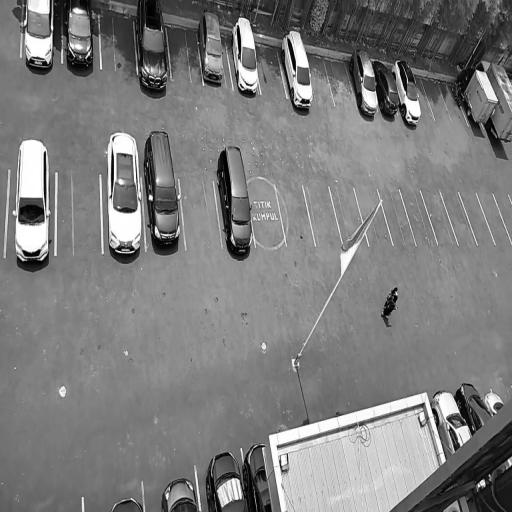Car: (103, 124, 146, 271), (10, 133, 54, 270), (142, 121, 184, 262), (135, 0, 173, 103), (277, 25, 318, 110), (429, 383, 474, 460), (452, 61, 500, 126), (21, 0, 59, 78), (226, 15, 262, 97), (389, 56, 426, 131), (202, 446, 244, 512), (65, 0, 98, 79), (195, 7, 228, 86), (344, 47, 381, 117), (452, 378, 493, 436), (240, 441, 272, 512), (370, 54, 403, 117), (159, 471, 199, 512), (481, 387, 507, 417), (110, 493, 146, 512)
Space Available: (56, 171, 102, 253), (178, 179, 222, 249), (303, 184, 343, 247), (275, 185, 315, 247), (100, 10, 137, 72), (248, 186, 286, 246), (329, 186, 368, 244), (399, 189, 438, 246), (378, 189, 416, 247), (167, 22, 202, 84), (354, 187, 392, 244), (421, 189, 459, 243), (440, 191, 477, 246), (458, 191, 495, 245), (477, 192, 512, 245), (255, 41, 287, 98), (324, 56, 356, 107), (307, 51, 335, 105), (421, 77, 451, 122), (493, 193, 512, 244), (414, 75, 435, 121)
